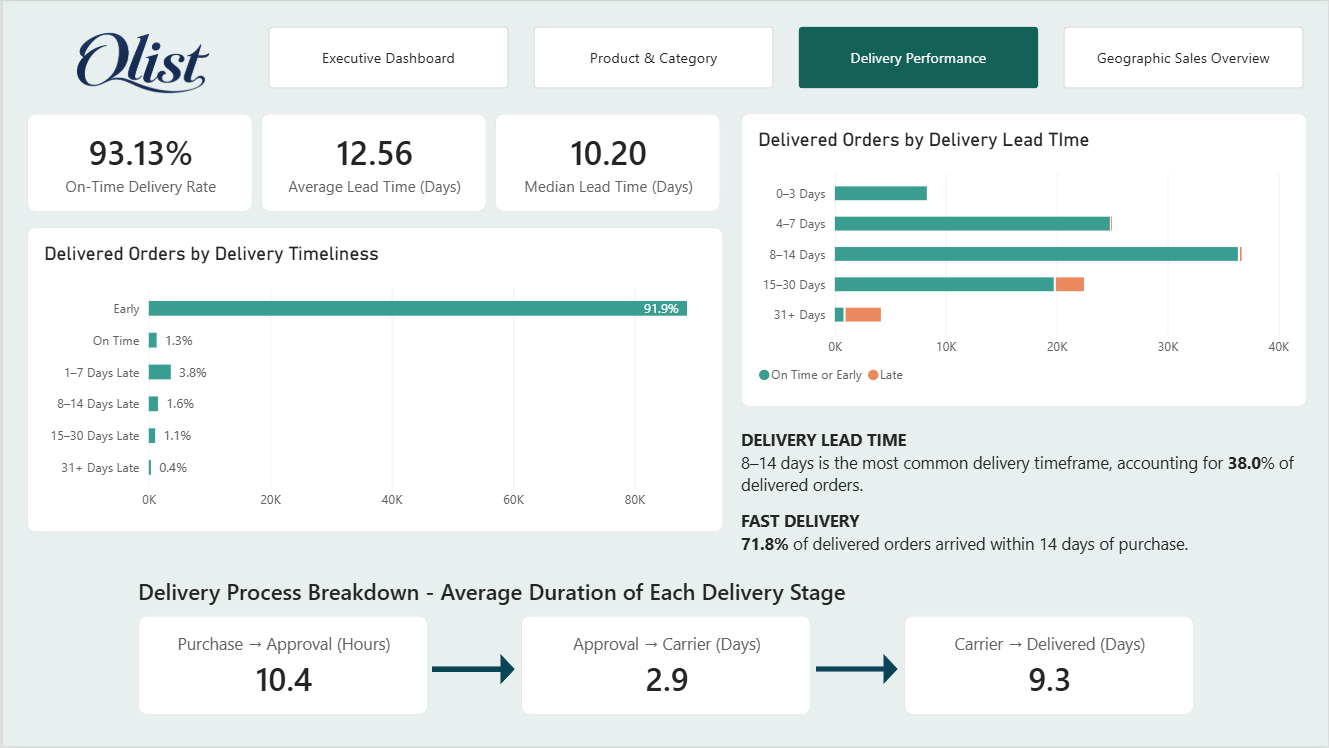

Layout of this report page (visuals, bound fields, positions):
{"tool":"powerbi","page":{"name":"Delivery Performance","canvas":[1280,720],"ordinal":2},"visuals":[{"type":"image","box":[22.8,3.7,216.3,105.7],"z":0},{"type":"cardVisual","fields":{"Data":["_measures.On-Time Delivery Rate","_measures.Lead Time Average","_measures.Lead Time Median"]},"box":[22.9,108.3,672.9,95.8],"z":1000},{"type":"clusteredBarChart","title":"Delivered Orders by Delivery Timeliness","fields":{"Category":["orders.Estimated-Delivered Group"],"Y":["_measures.Delivered Orders"]},"box":[22.9,218.8,672.9,293.8],"z":2000},{"type":"cardVisual","title":"Delivery Process Breakdown - Average Duration of Each Delivery Stage","fields":{"Data":["_measures.Approval Time Average","_measures.Approve-Carrier Average","_measures.Carrier-Delivered Average"]},"box":[130,555,1020,135],"z":3000},{"type":"shape","box":[414.6,630.2,80.2,30.2],"z":4000},{"type":"shape","box":[785.4,630.2,79.2,30],"z":5000},{"type":"textbox","box":[713.5,413.5,544.2,86.5],"z":6000},{"type":"barChart","title":"Delivered Orders by Delivery Lead TIme","fields":{"Category":["orders.Lead Time Group"],"Series":["orders.Estimated-Delivered Simple"],"Y":["_measures.Delivered Orders"]},"box":[713.3,108.3,546.7,283.3],"z":7000},{"type":"pageNavigator","box":[257,24.4,1000.3,60.2],"z":8000},{"type":"textbox","box":[713.4,491.5,544.5,79.9],"z":9000}]}

Visuals, with their boxes in screenshot pixels (x1, y1, x2, y2), scaled from the page's 1280x720 canvas onto the 1329x748 screenshot:
image: 24/4/248/114
cardVisual - _measures.On-Time Delivery Rate x _measures.Lead Time Average: 24/113/722/212
"Delivered Orders by Delivery Timeliness" clusteredBarChart: 24/227/722/533
"Delivery Process Breakdown - Average Duration of Each Delivery Stage" cardVisual: 135/577/1194/717
shape: 430/655/514/686
shape: 815/655/898/686
textbox: 741/430/1306/519
"Delivered Orders by Delivery Lead TIme" barChart: 741/113/1308/407
pageNavigator: 267/25/1305/88
textbox: 741/511/1306/594
